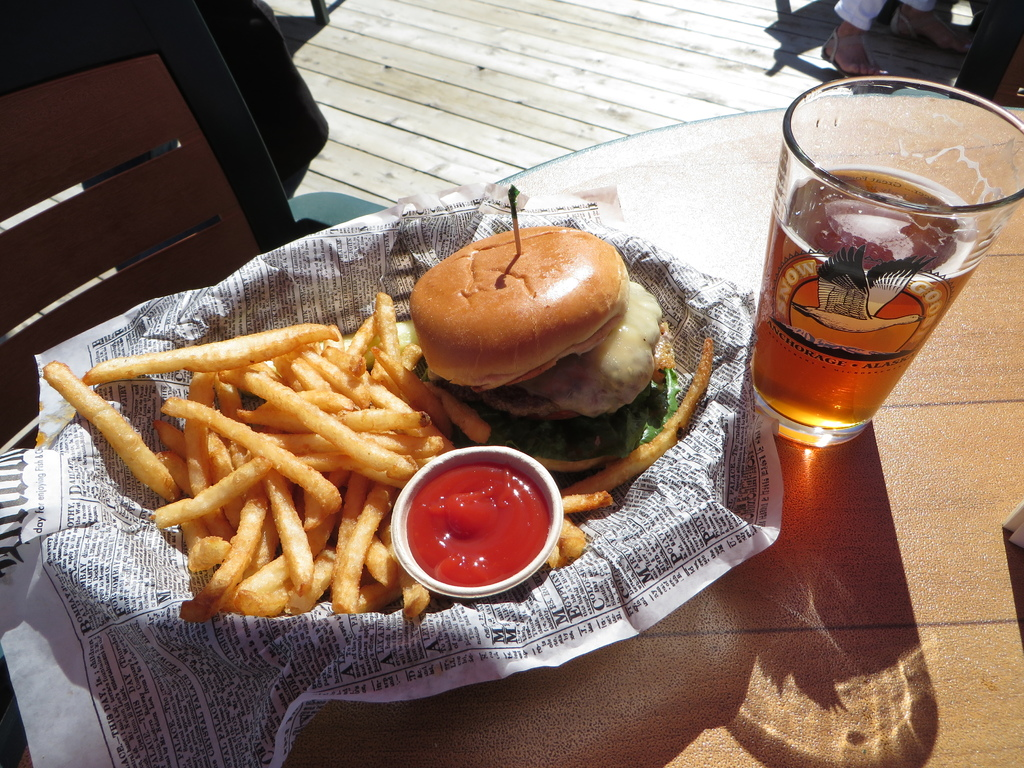French fries: (62, 276, 474, 633), (543, 333, 720, 568)
